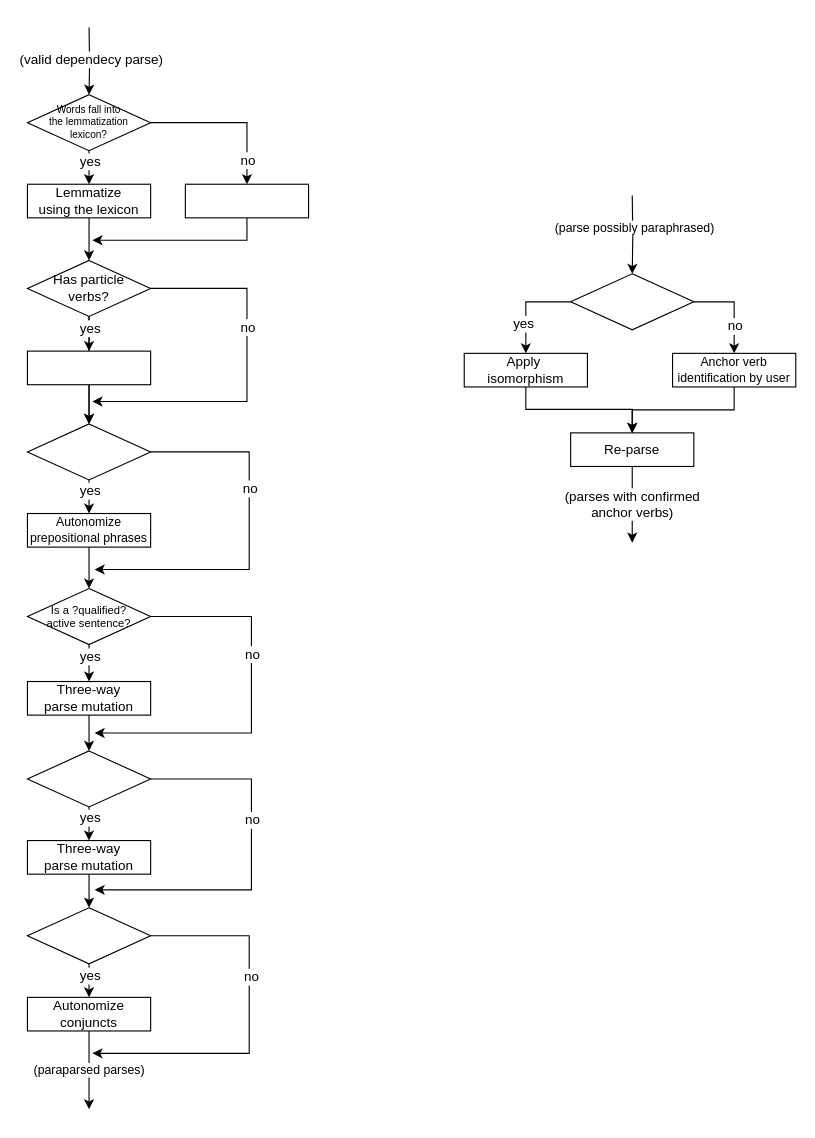
Image size: 815x1138. Some labels were removed from this diagram. Here are the shapes that lost their labels. From the top down, the centre of each, then its label:
At (x=246, y=200): "Lemmatize using Stanza lemmatizer".
At (x=632, y=301): "Has isomorphic sentence?".
At (x=88, y=367): "Re-parse with merged particle verbs".
At (x=88, y=451): "Has prepositional phrases?".
At (x=88, y=778): "Is a ?qualified? passive sentence?".
At (x=88, y=935): "Has conjunctions?".
